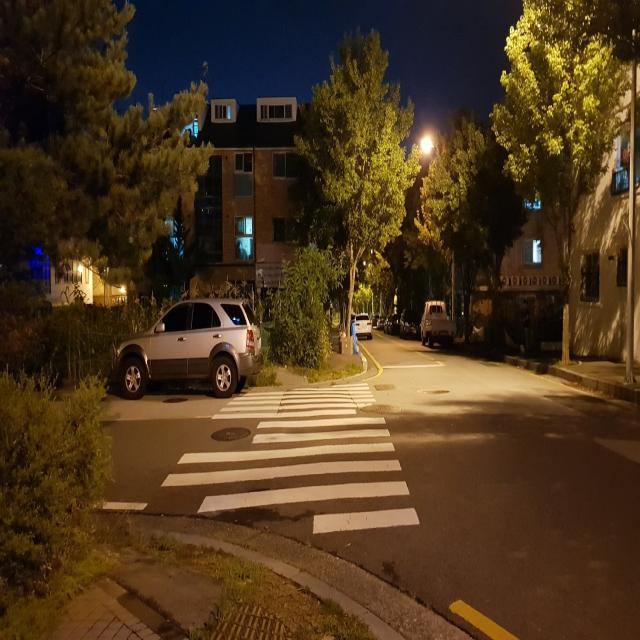횡단보도: (160, 383, 420, 533)
